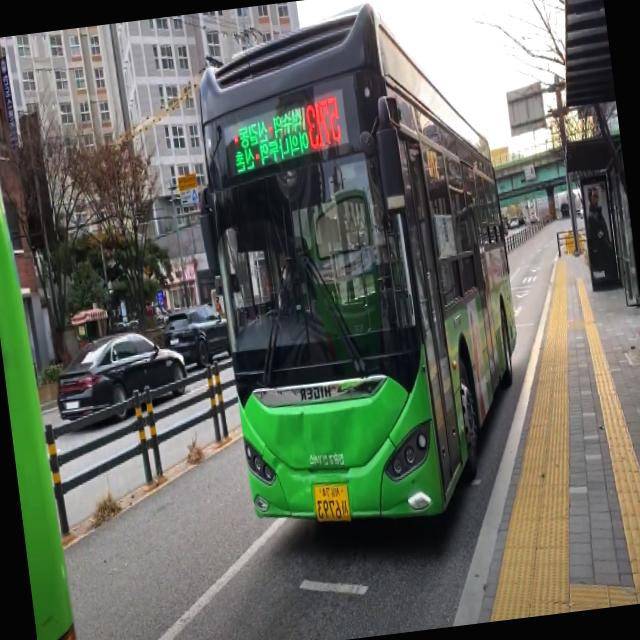bus-number: (302, 92, 344, 152)
